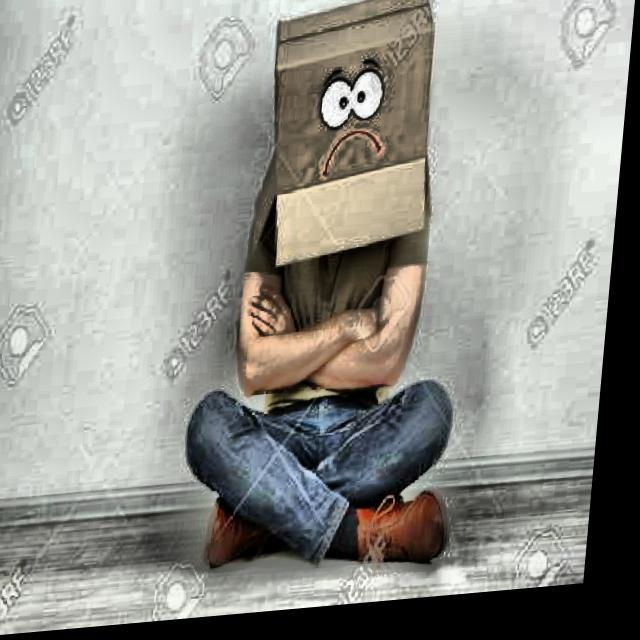Cardbox: (224, 0, 482, 284)
